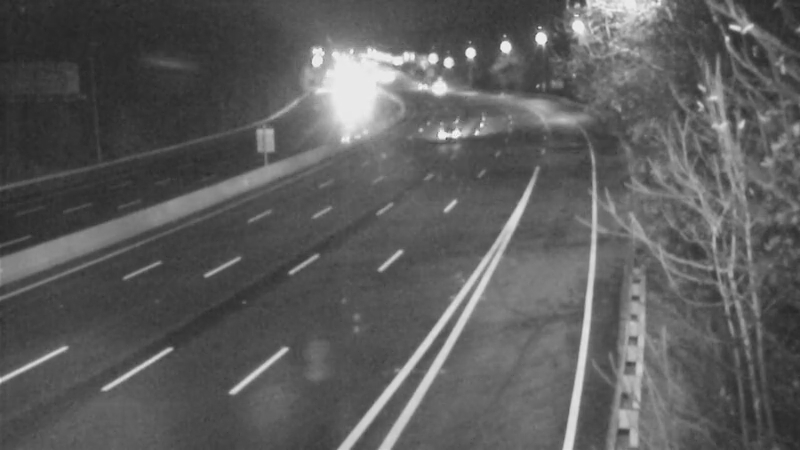vehicle: (397, 63, 447, 113), (412, 64, 462, 114), (425, 106, 475, 156)
